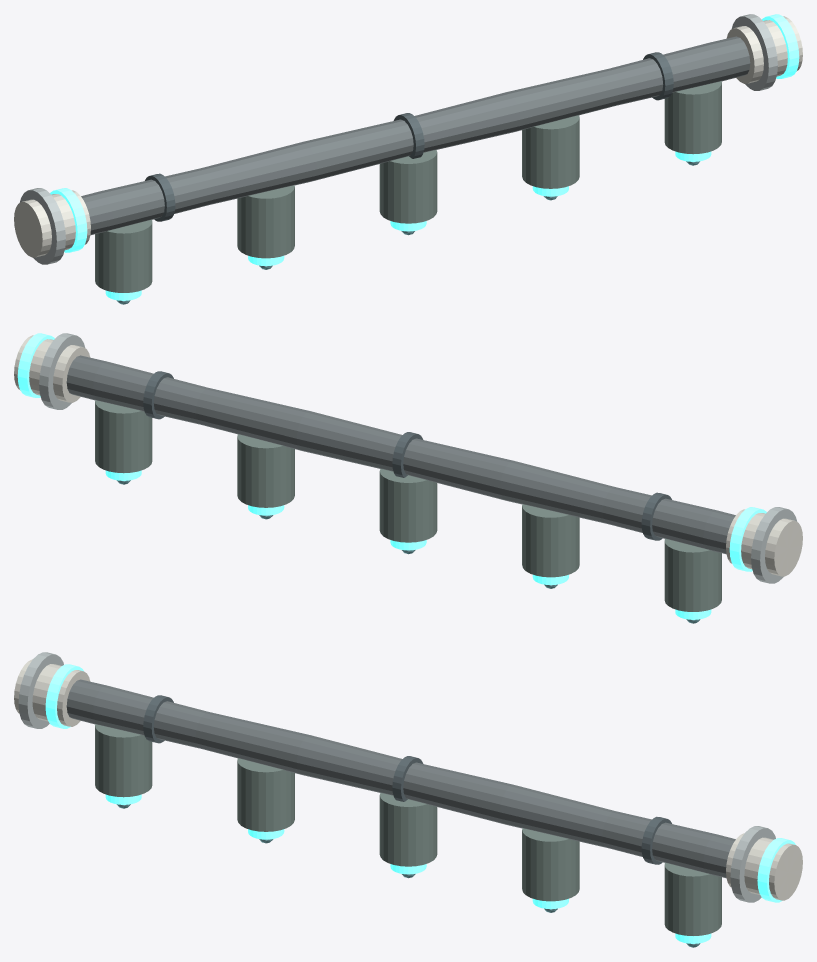
Rendered from s7-i05-dripline-1m.glb.
3 renders of one model, top to bottom at view 1: azimuth 30°, elevation 25°; view 2: azimuth 150°, elevation 25°; view 3: azimuth 330°, elevation 25°, orthographic.
Visible parts, largest first — view 1: 000_actual_curved_hose_swept_3d, 016_drip_junction_2, 013_drip_junction_1, 019_drip_junction_3, 010_drip_junction_0, 022_drip_junction_4, 001_end_0_sealing_socket, 004_end_1_sealing_socket, 006_end_1_locking_collar, 003_end_0_locking_collar, 005_end_1_cyan_snap_seal, 002_end_0_cyan_snap_seal (+3 smaller); view 2: 000_actual_curved_hose_swept_3d, 016_drip_junction_2, 013_drip_junction_1, 019_drip_junction_3, 010_drip_junction_0, 022_drip_junction_4, 001_end_0_sealing_socket, 004_end_1_sealing_socket, 006_end_1_locking_collar, 003_end_0_locking_collar, 005_end_1_cyan_snap_seal, 002_end_0_cyan_snap_seal (+3 smaller); view 3: 000_actual_curved_hose_swept_3d, 016_drip_junction_2, 019_drip_junction_3, 013_drip_junction_1, 022_drip_junction_4, 010_drip_junction_0, 004_end_1_sealing_socket, 001_end_0_sealing_socket, 003_end_0_locking_collar, 006_end_1_locking_collar, 002_end_0_cyan_snap_seal, 005_end_1_cyan_snap_seal (+3 smaller).
Part boxes in pixels (bbox=[...]): 000_actual_curved_hose_swept_3d: bbox=[81, 36, 750, 235]; 016_drip_junction_2: bbox=[379, 149, 437, 223]; 013_drip_junction_1: bbox=[237, 185, 294, 258]; 019_drip_junction_3: bbox=[522, 115, 579, 188]; 010_drip_junction_0: bbox=[95, 219, 152, 292]; 022_drip_junction_4: bbox=[664, 81, 721, 154]; 001_end_0_sealing_socket: bbox=[14, 190, 90, 257]; 004_end_1_sealing_socket: bbox=[726, 16, 802, 83]; 006_end_1_locking_collar: bbox=[731, 14, 777, 90]; 003_end_0_locking_collar: bbox=[19, 188, 65, 264]; 005_end_1_cyan_snap_seal: bbox=[762, 14, 799, 78]; 002_end_0_cyan_snap_seal: bbox=[50, 188, 87, 252]; 000_actual_curved_hose_swept_3d: bbox=[66, 355, 735, 554]; 016_drip_junction_2: bbox=[379, 468, 437, 542]; 013_drip_junction_1: bbox=[522, 504, 579, 577]; 019_drip_junction_3: bbox=[237, 434, 294, 507]; 010_drip_junction_0: bbox=[664, 538, 721, 611]; 022_drip_junction_4: bbox=[95, 400, 152, 473]; 001_end_0_sealing_socket: bbox=[726, 509, 802, 576]; 004_end_1_sealing_socket: bbox=[14, 335, 90, 402]; 006_end_1_locking_collar: bbox=[39, 333, 85, 409]; 003_end_0_locking_collar: bbox=[751, 507, 797, 583]; 005_end_1_cyan_snap_seal: bbox=[17, 333, 54, 397]; 002_end_0_cyan_snap_seal: bbox=[729, 507, 766, 571]; 000_actual_curved_hose_swept_3d: bbox=[66, 679, 735, 878]; 016_drip_junction_2: bbox=[379, 792, 437, 866]; 019_drip_junction_3: bbox=[522, 828, 579, 901]; 013_drip_junction_1: bbox=[237, 758, 294, 831]; 022_drip_junction_4: bbox=[664, 862, 721, 935]; 010_drip_junction_0: bbox=[95, 724, 152, 797]; 004_end_1_sealing_socket: bbox=[726, 833, 802, 900]; 001_end_0_sealing_socket: bbox=[14, 659, 90, 726]; 003_end_0_locking_collar: bbox=[18, 652, 63, 728]; 006_end_1_locking_collar: bbox=[730, 826, 775, 902]; 002_end_0_cyan_snap_seal: bbox=[45, 664, 83, 728]; 005_end_1_cyan_snap_seal: bbox=[757, 838, 795, 902].
Bounding box in the file's own units: 1.07 × 0.1778 × 0.0935.
